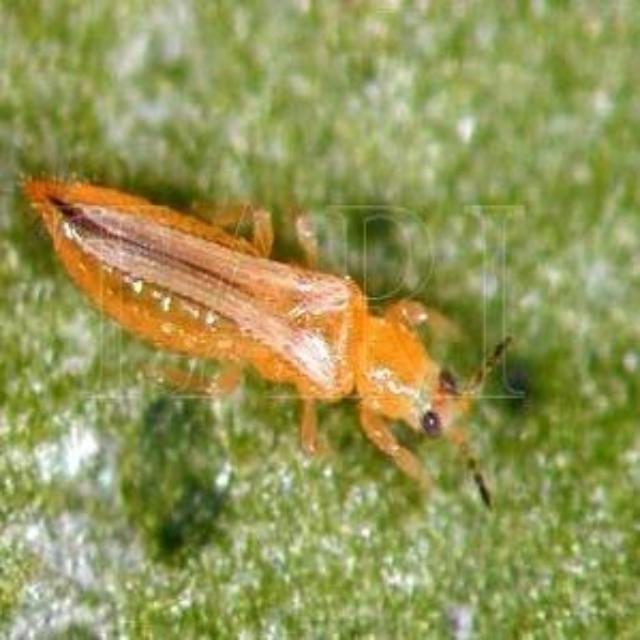melon thrips: (6, 111, 558, 564)
